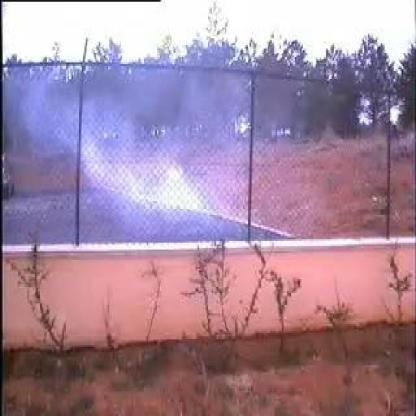-: (81, 76, 252, 240)
